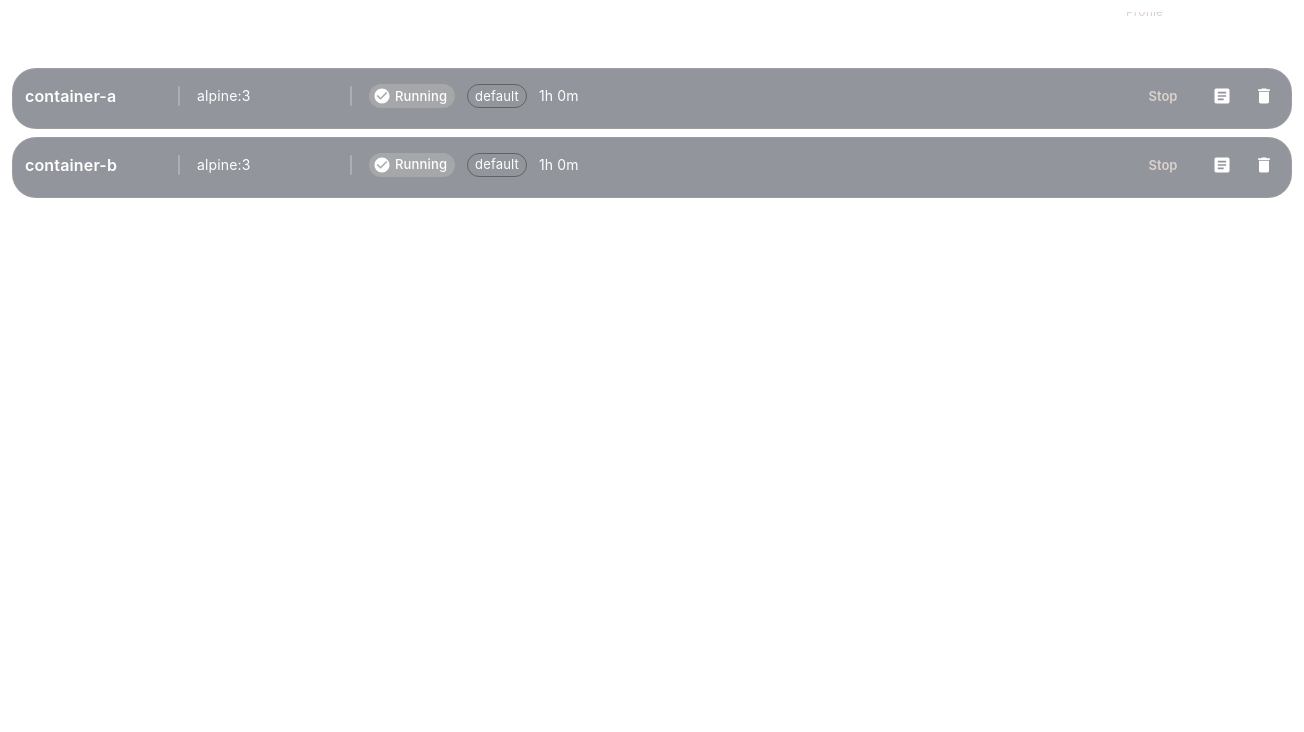
ContainersView › expanding a different row's logs collapses the first row's panel
Expected: the text "container-a" is shown, [25,86,116,106]
What coordinates should you click on to do the following:
click the button named "View logs for container-a"
I would click on:
 (1222, 96)
Its box is [1207,81,1237,111].
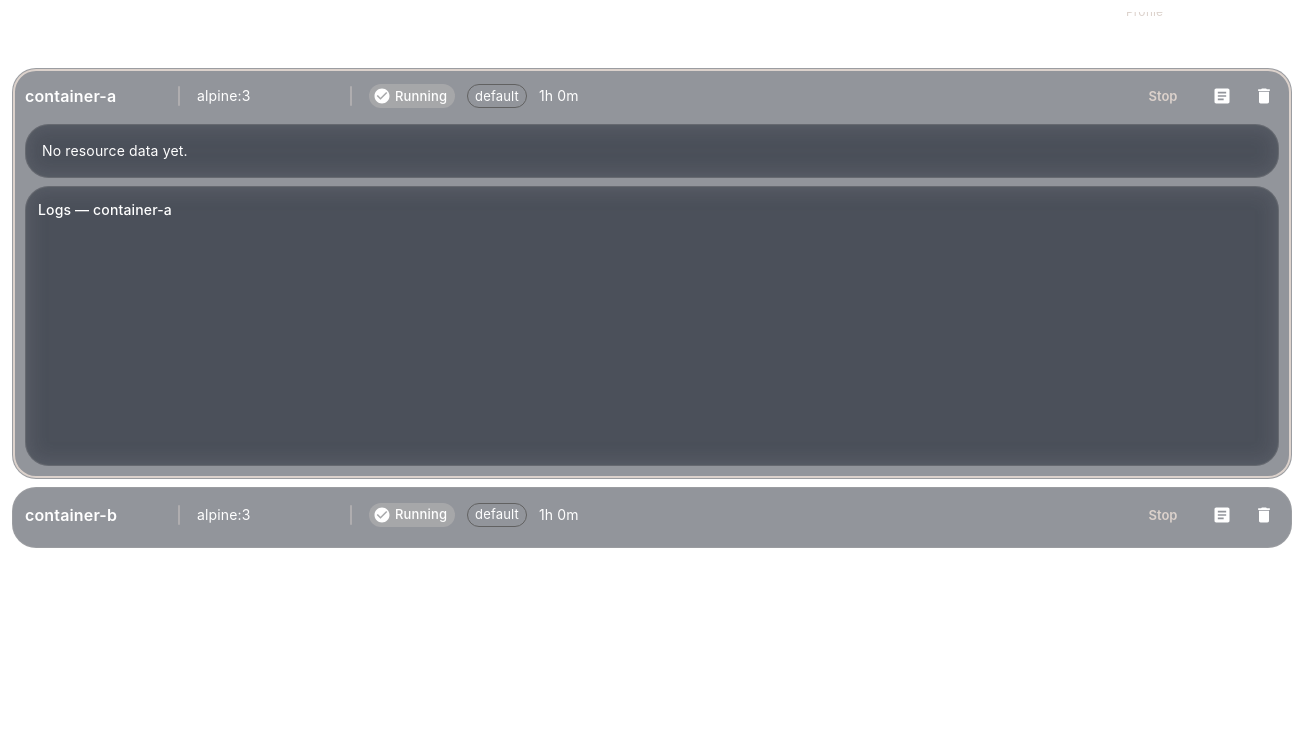
Expected: the heading "Logs — container-a" is shown, [38,199,172,221]
What coordinates should you click on to do the following:
click the button named "View logs for container-b"
I would click on:
 (1222, 515)
Its box is [1207,500,1237,530].
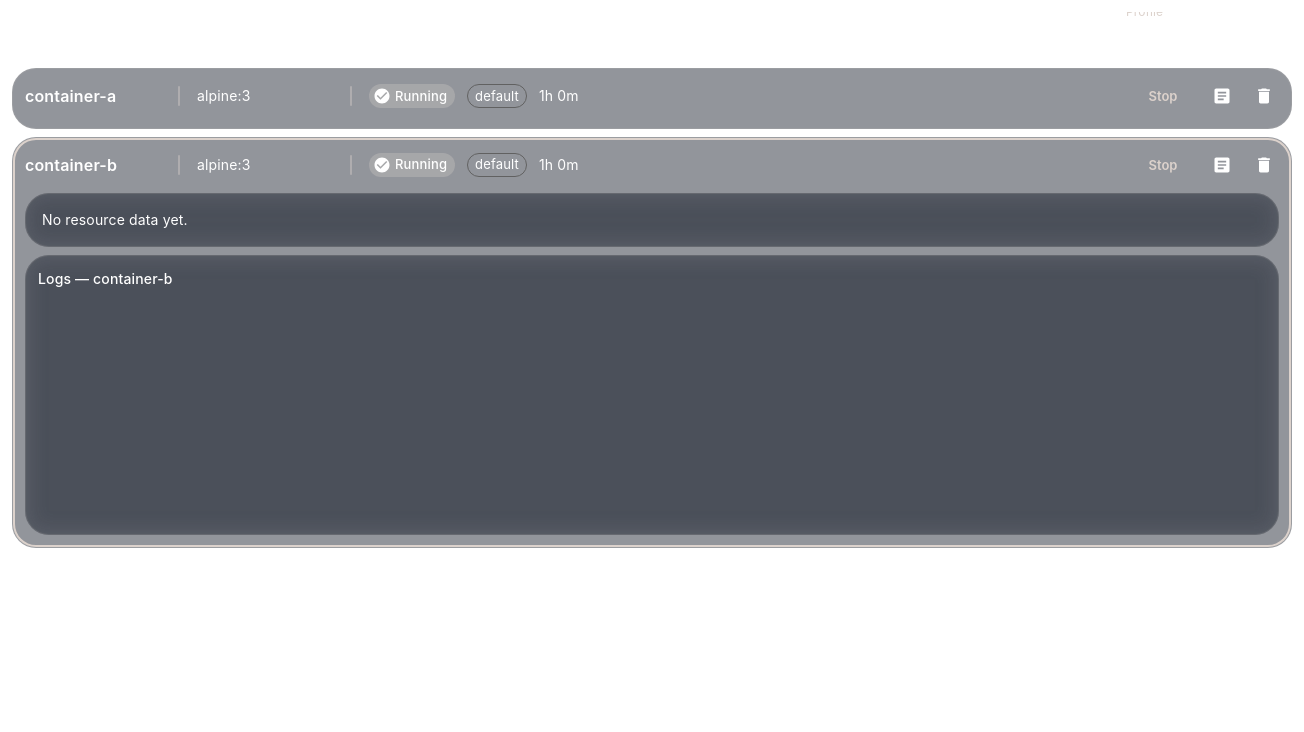
Expected: the heading "Logs — container-a" is gone
Expected: the heading "Logs — container-b" is shown, [38,268,173,290]
